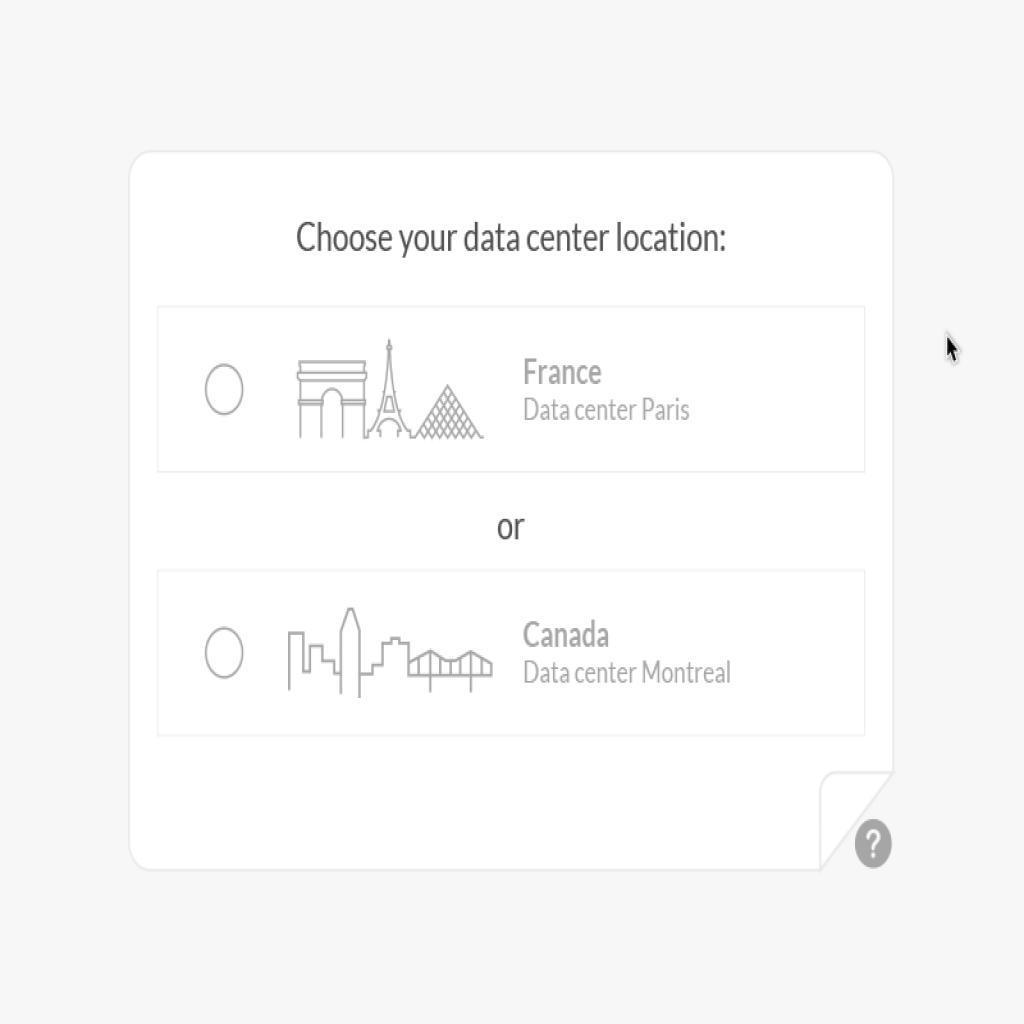icon: (855, 820, 896, 871)
label: (297, 215, 735, 261), (524, 615, 615, 654), (522, 352, 612, 391)
radio: (203, 625, 247, 682), (204, 362, 246, 419)
